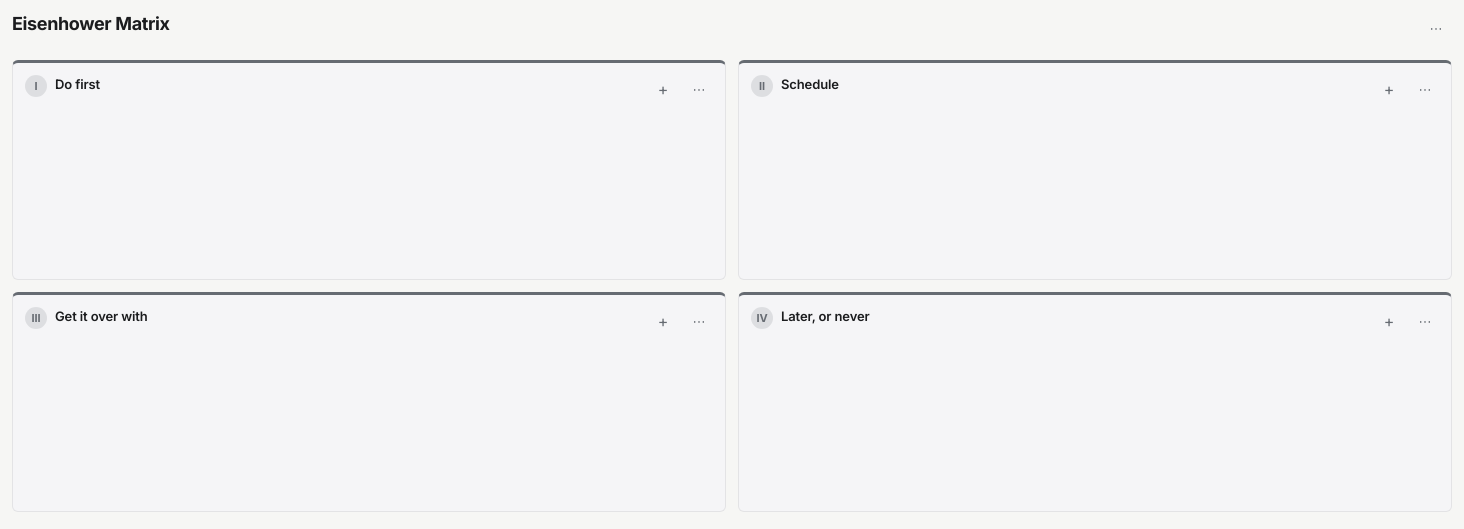
Test case: the box's + › closes on Escape, and makes nothing on the way out
Click the button named "Add a task to Do first" at (663, 89), box [649,75,677,103]
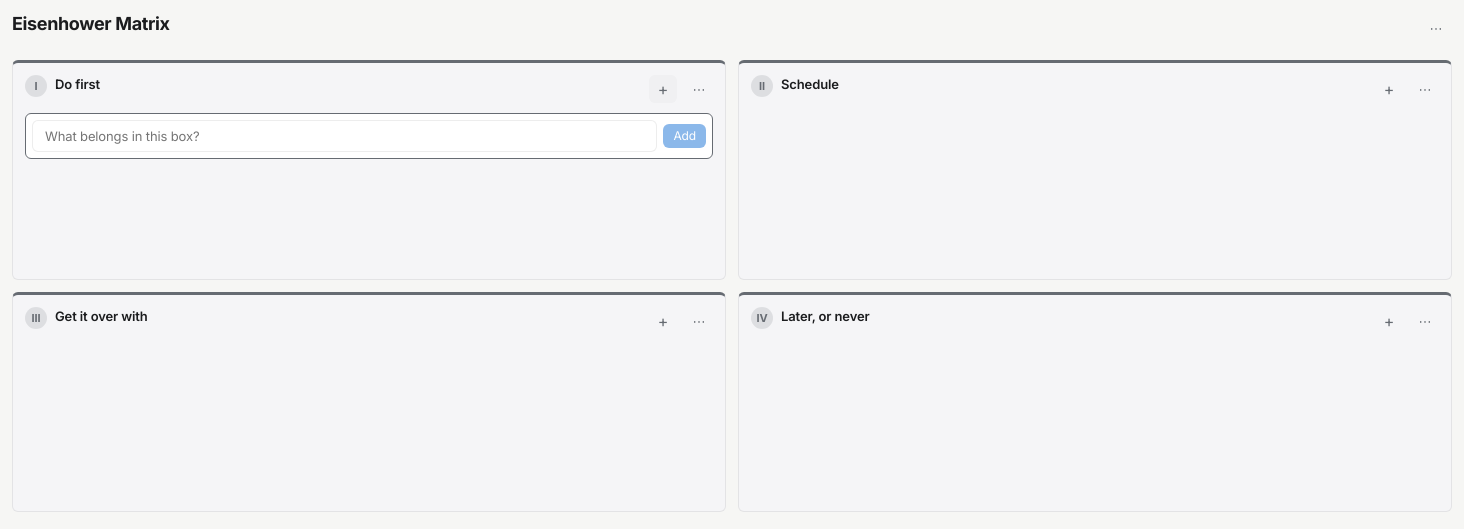
Type "Never mind" into the field labelled "What belongs in this box?" at (345, 136), box [32,120,657,152]
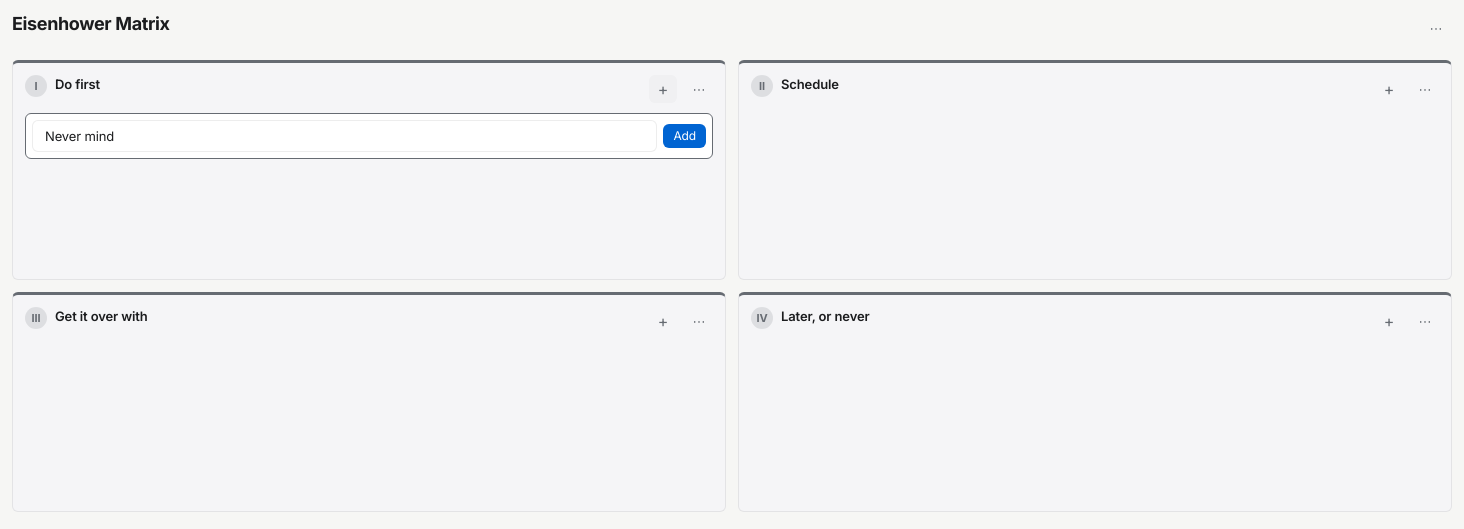
Press Escape
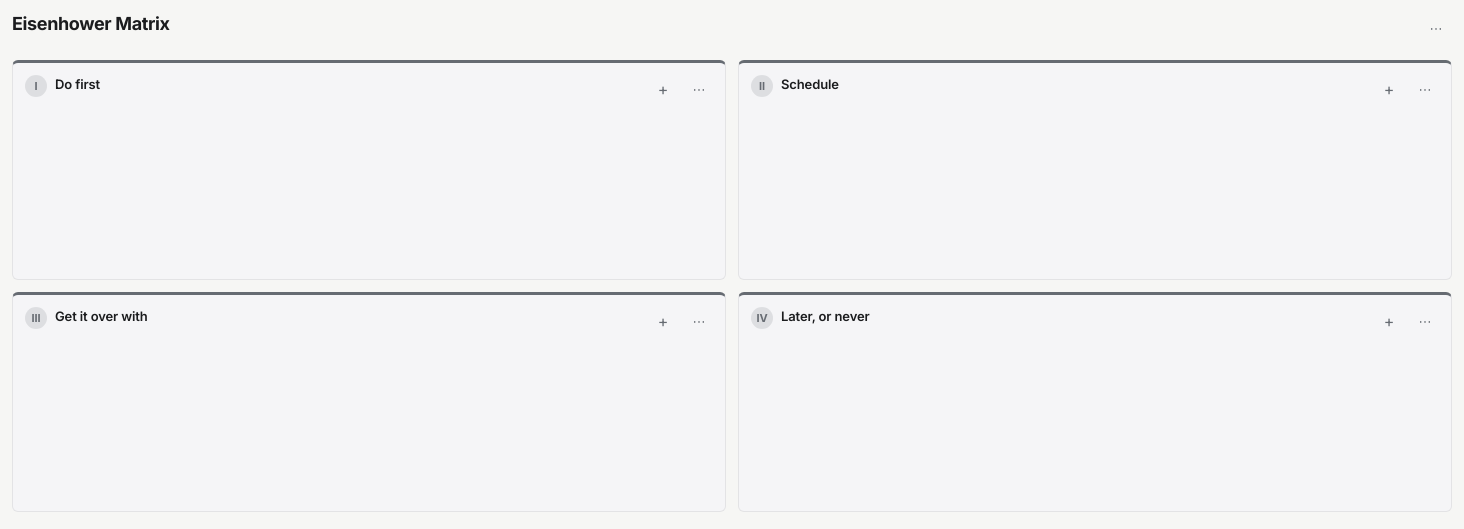
expect the form with class "ff-matrix-quick-add" is gone: met
